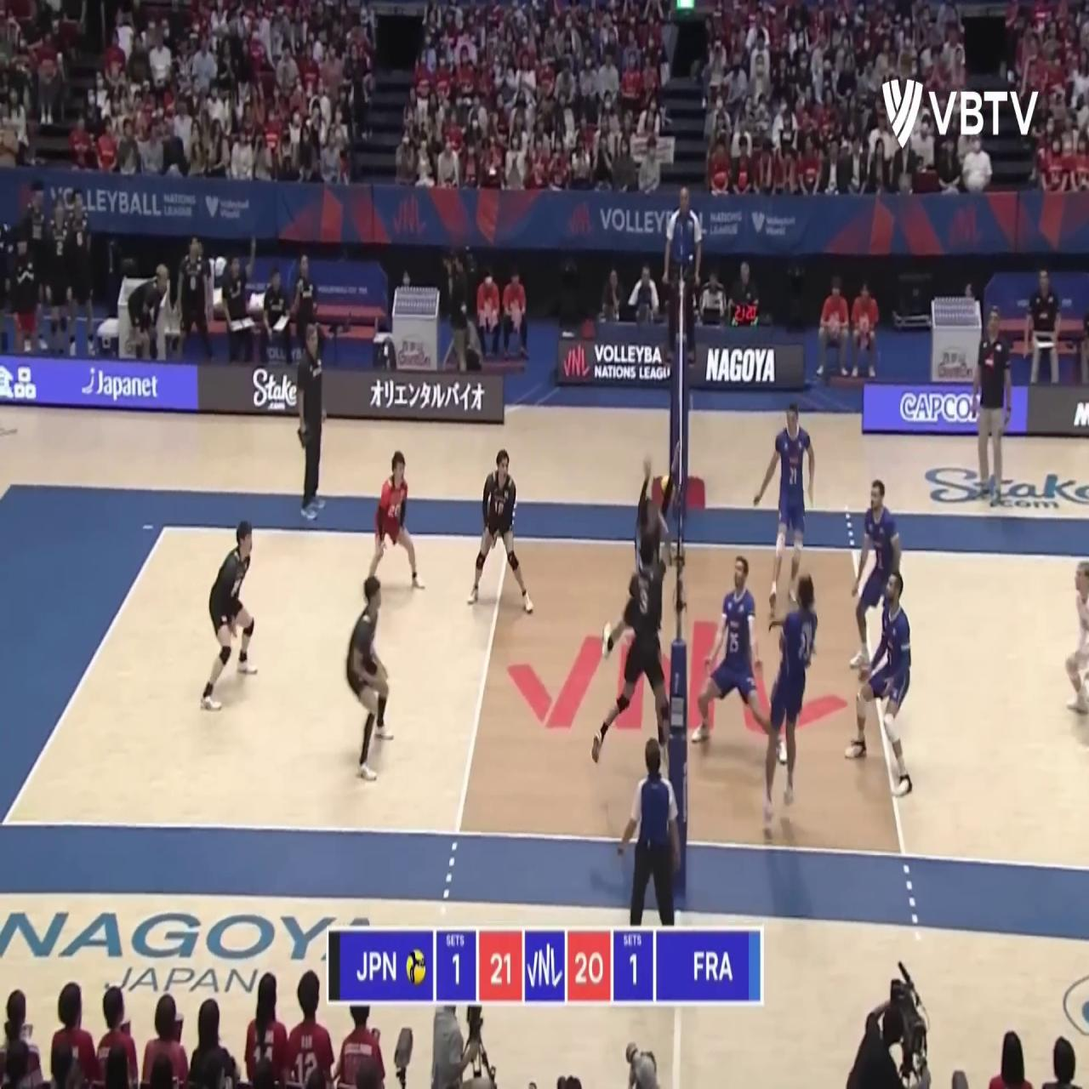ball: (660, 474, 674, 500)
